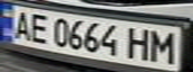0: (48, 16, 72, 48)
4: (100, 23, 124, 57)
6: (81, 20, 103, 54), (66, 18, 87, 52)
A: (6, 8, 36, 41)
E: (24, 11, 54, 44)
H: (124, 25, 154, 61)
M: (145, 28, 184, 63)
